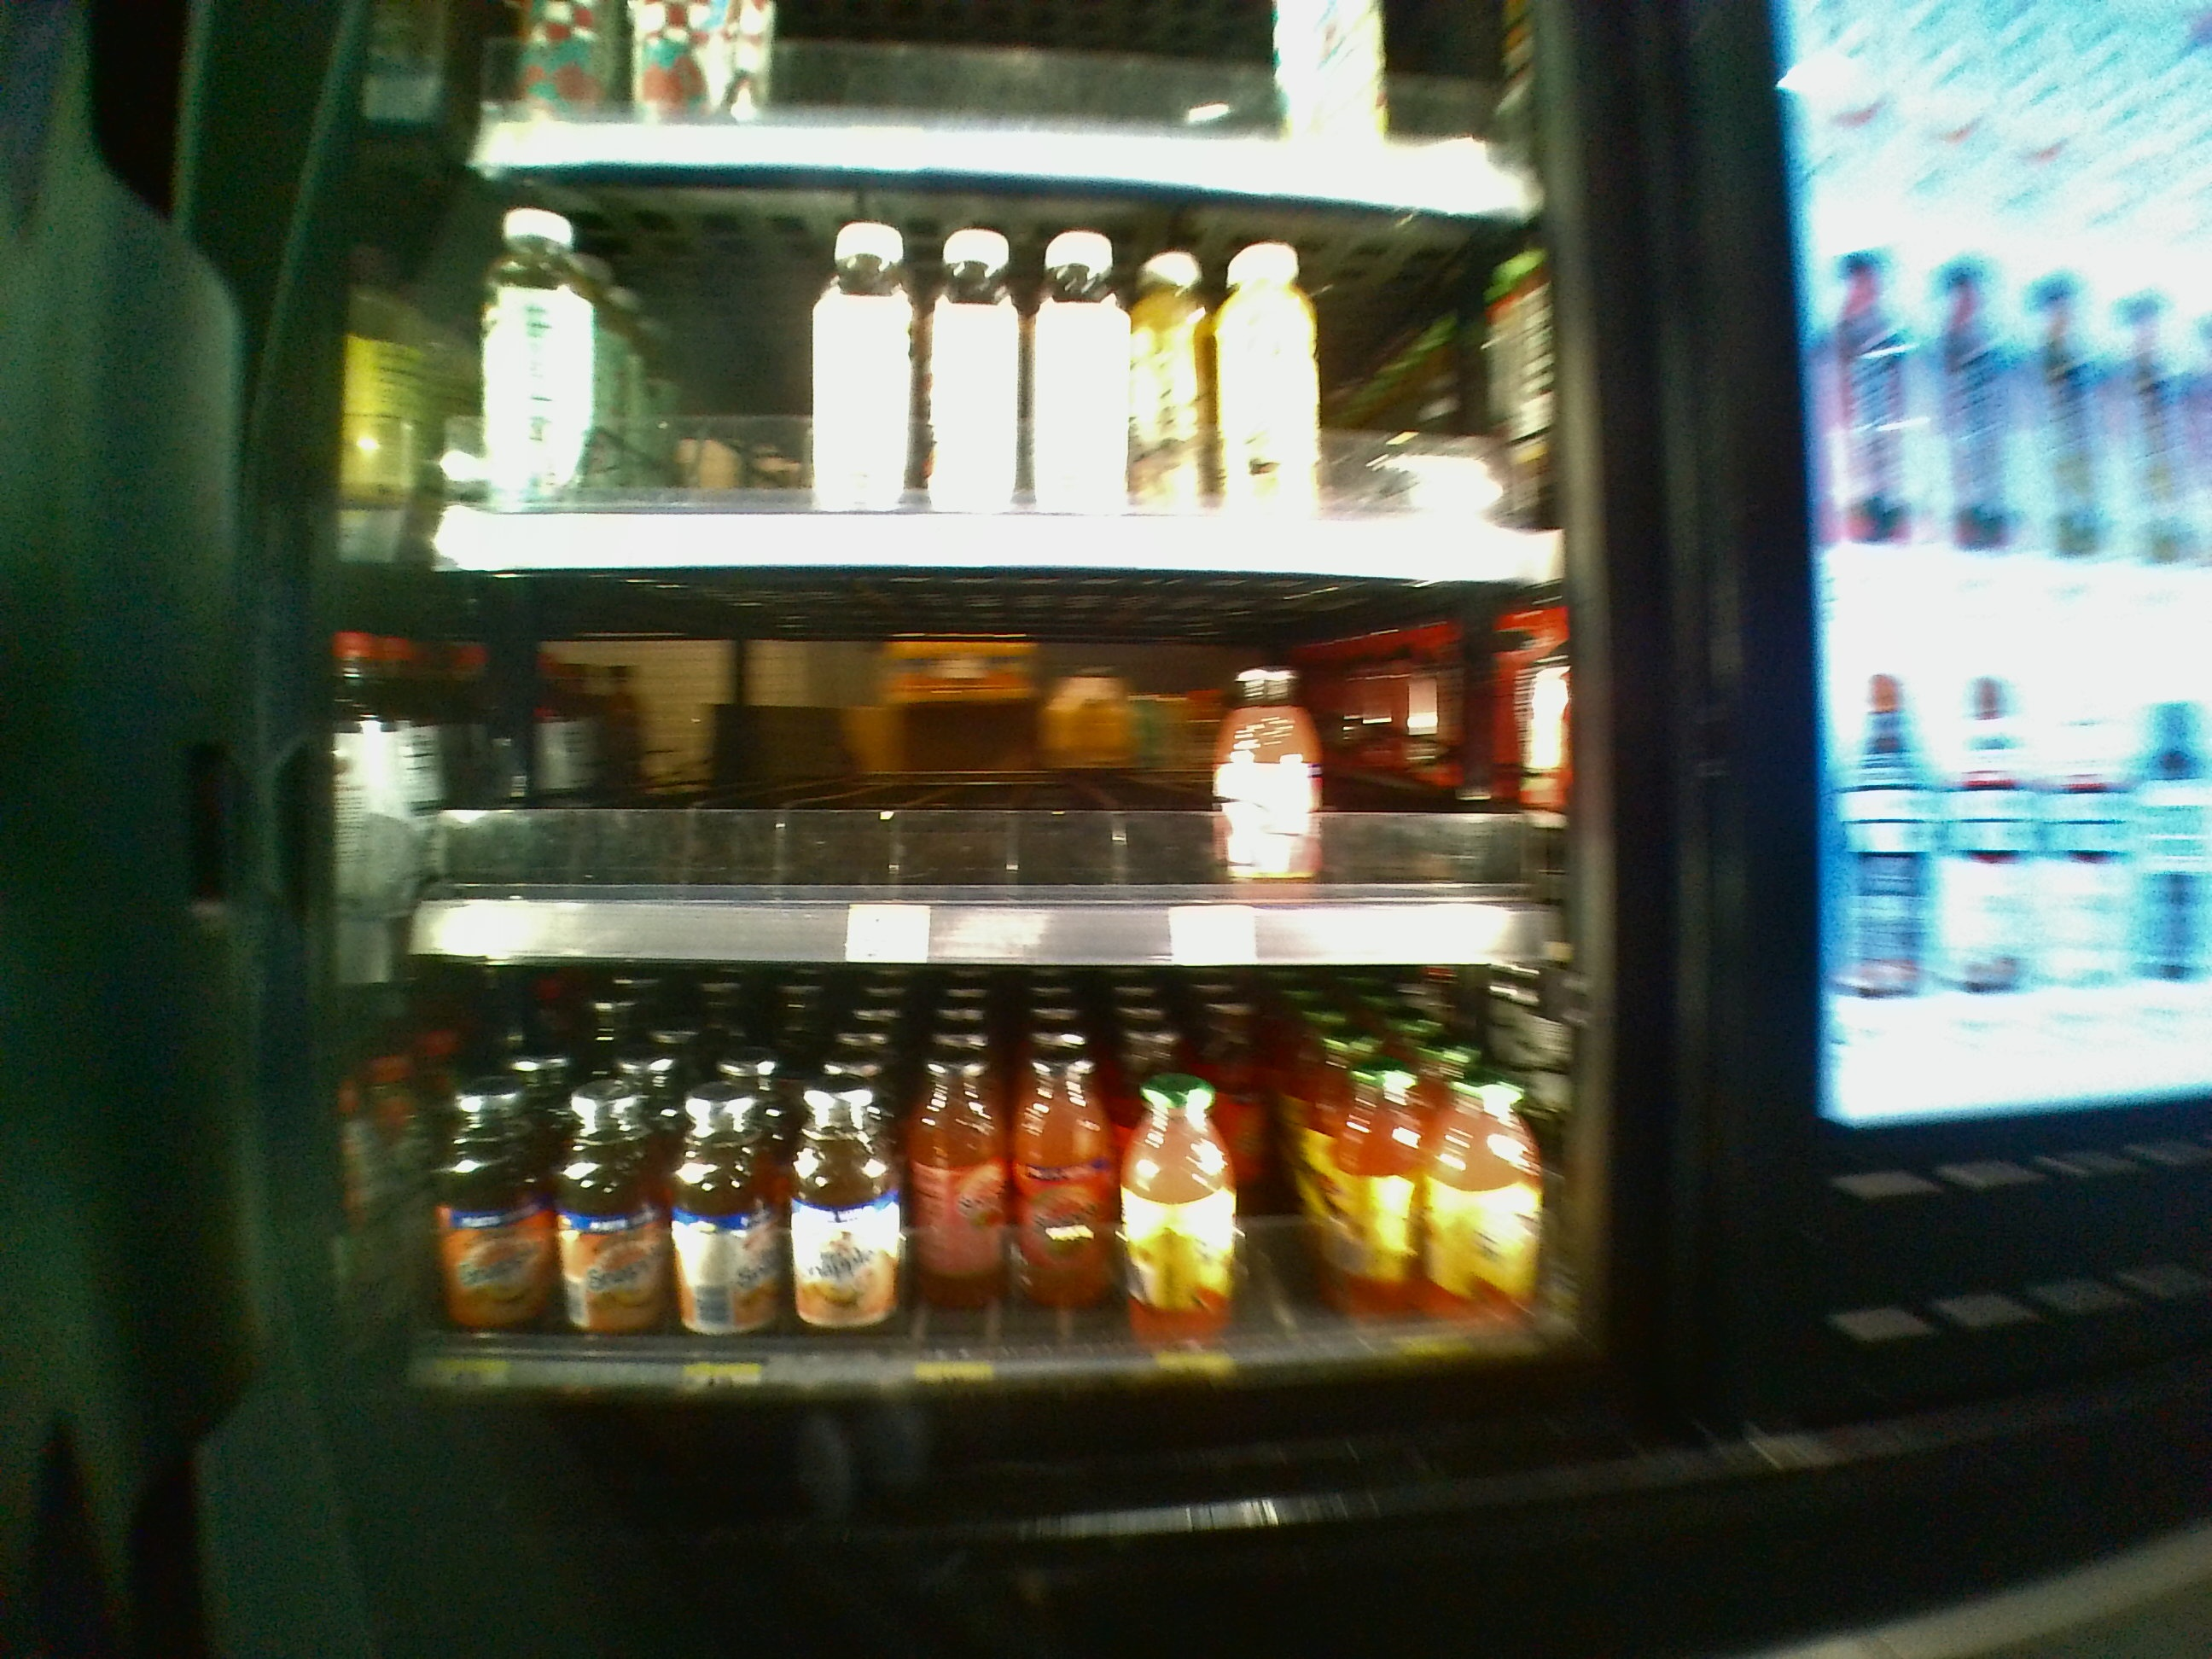shelf: (401, 972, 1564, 1406), (420, 169, 1554, 573), (404, 582, 1554, 958)
